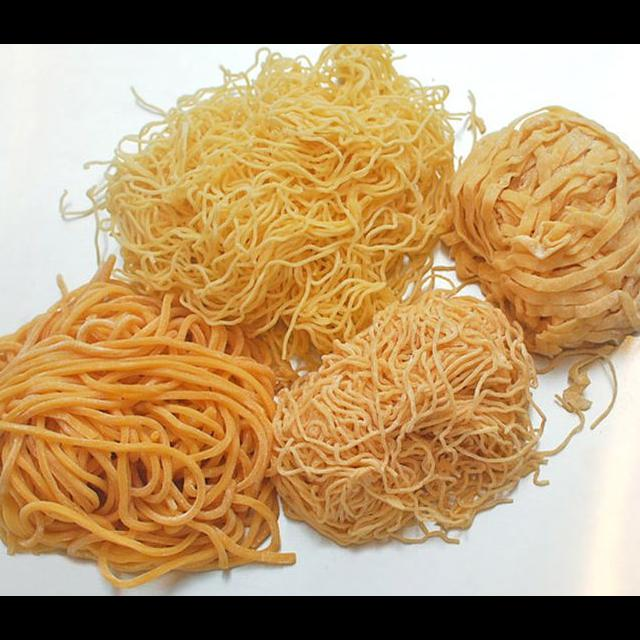noodles: (113, 61, 440, 345), (0, 281, 288, 573), (272, 291, 534, 543), (447, 108, 640, 348)
